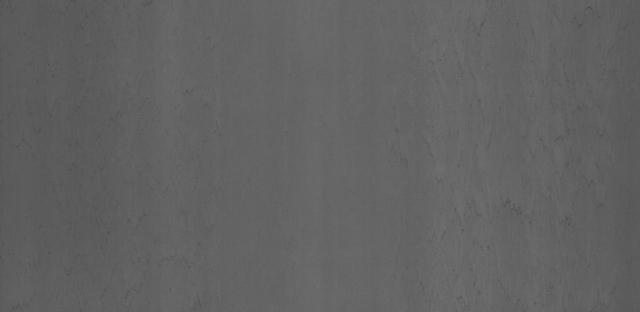silk_spot: (451, 92, 631, 236)
